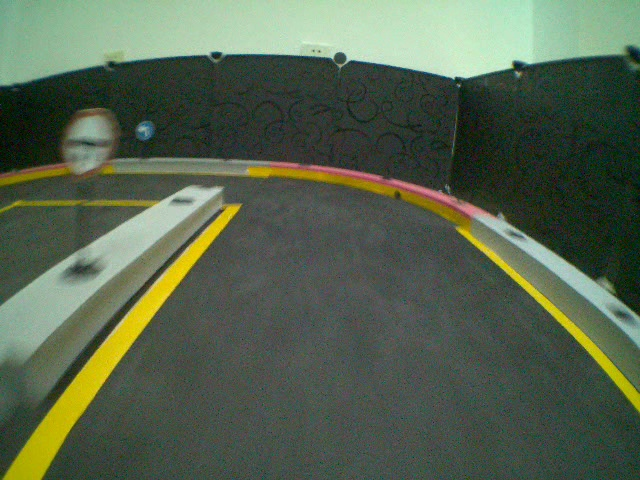Check: (58, 106, 120, 174)
turn: (136, 121, 155, 142)
